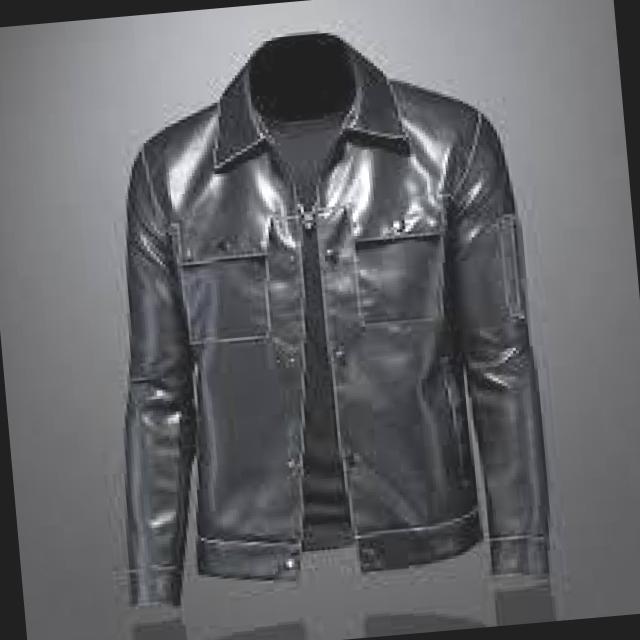jacket: (80, 18, 559, 611)
